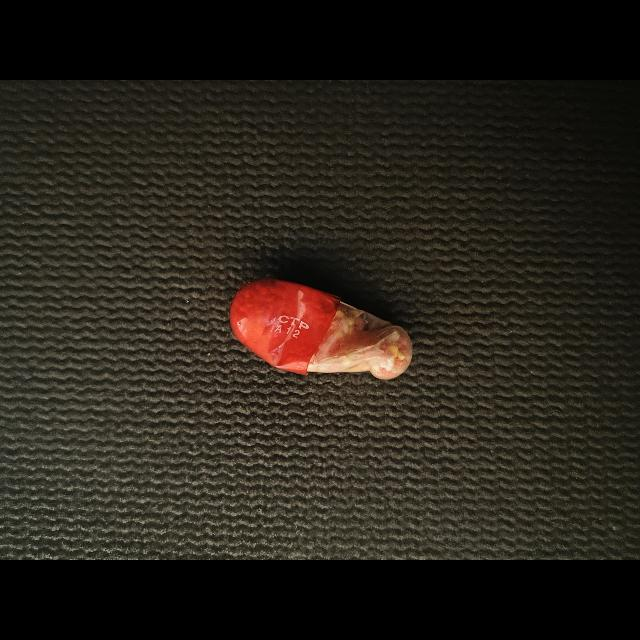Defective Capsule: (230, 279, 412, 380)
